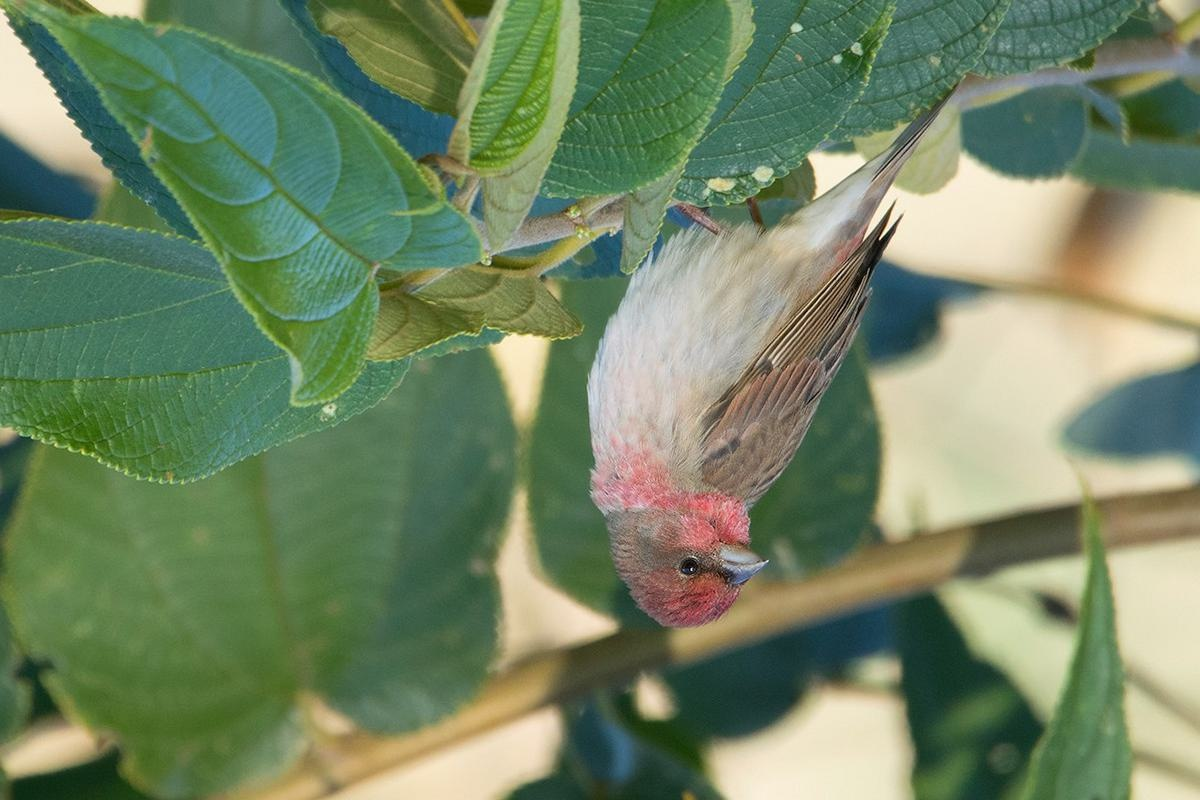rosefinch: (589, 144, 887, 644)
